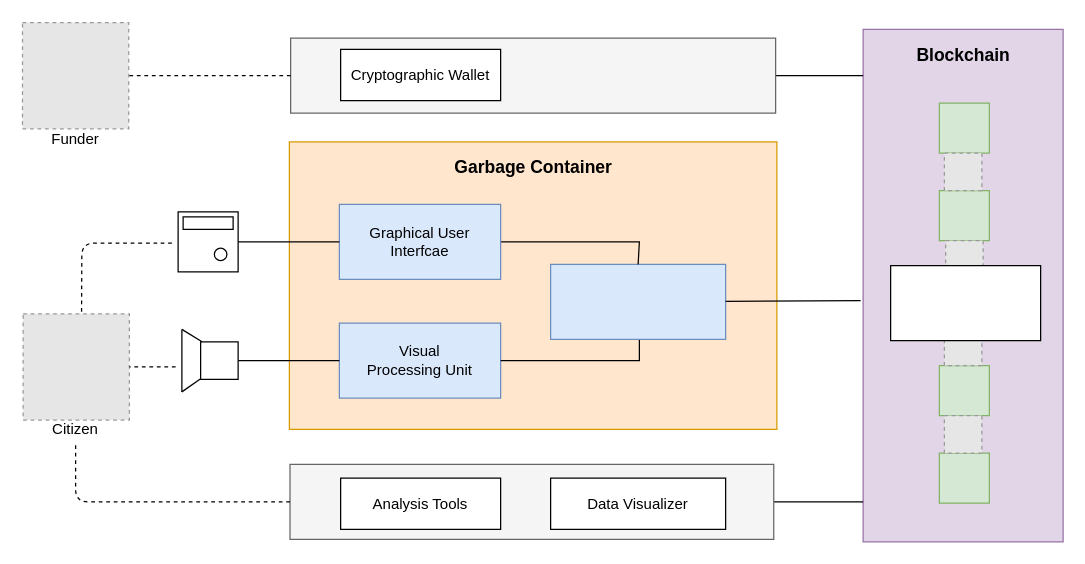
Image size: 1085x564. Some labels were removed from this diagram. Grey dashed boxes stand in for pictures. The centre of each missing label's shape, as x and y in pixels:
Permissioned Transaction Handler: the point at 637,301
Smart Contracts: the point at 965,302
